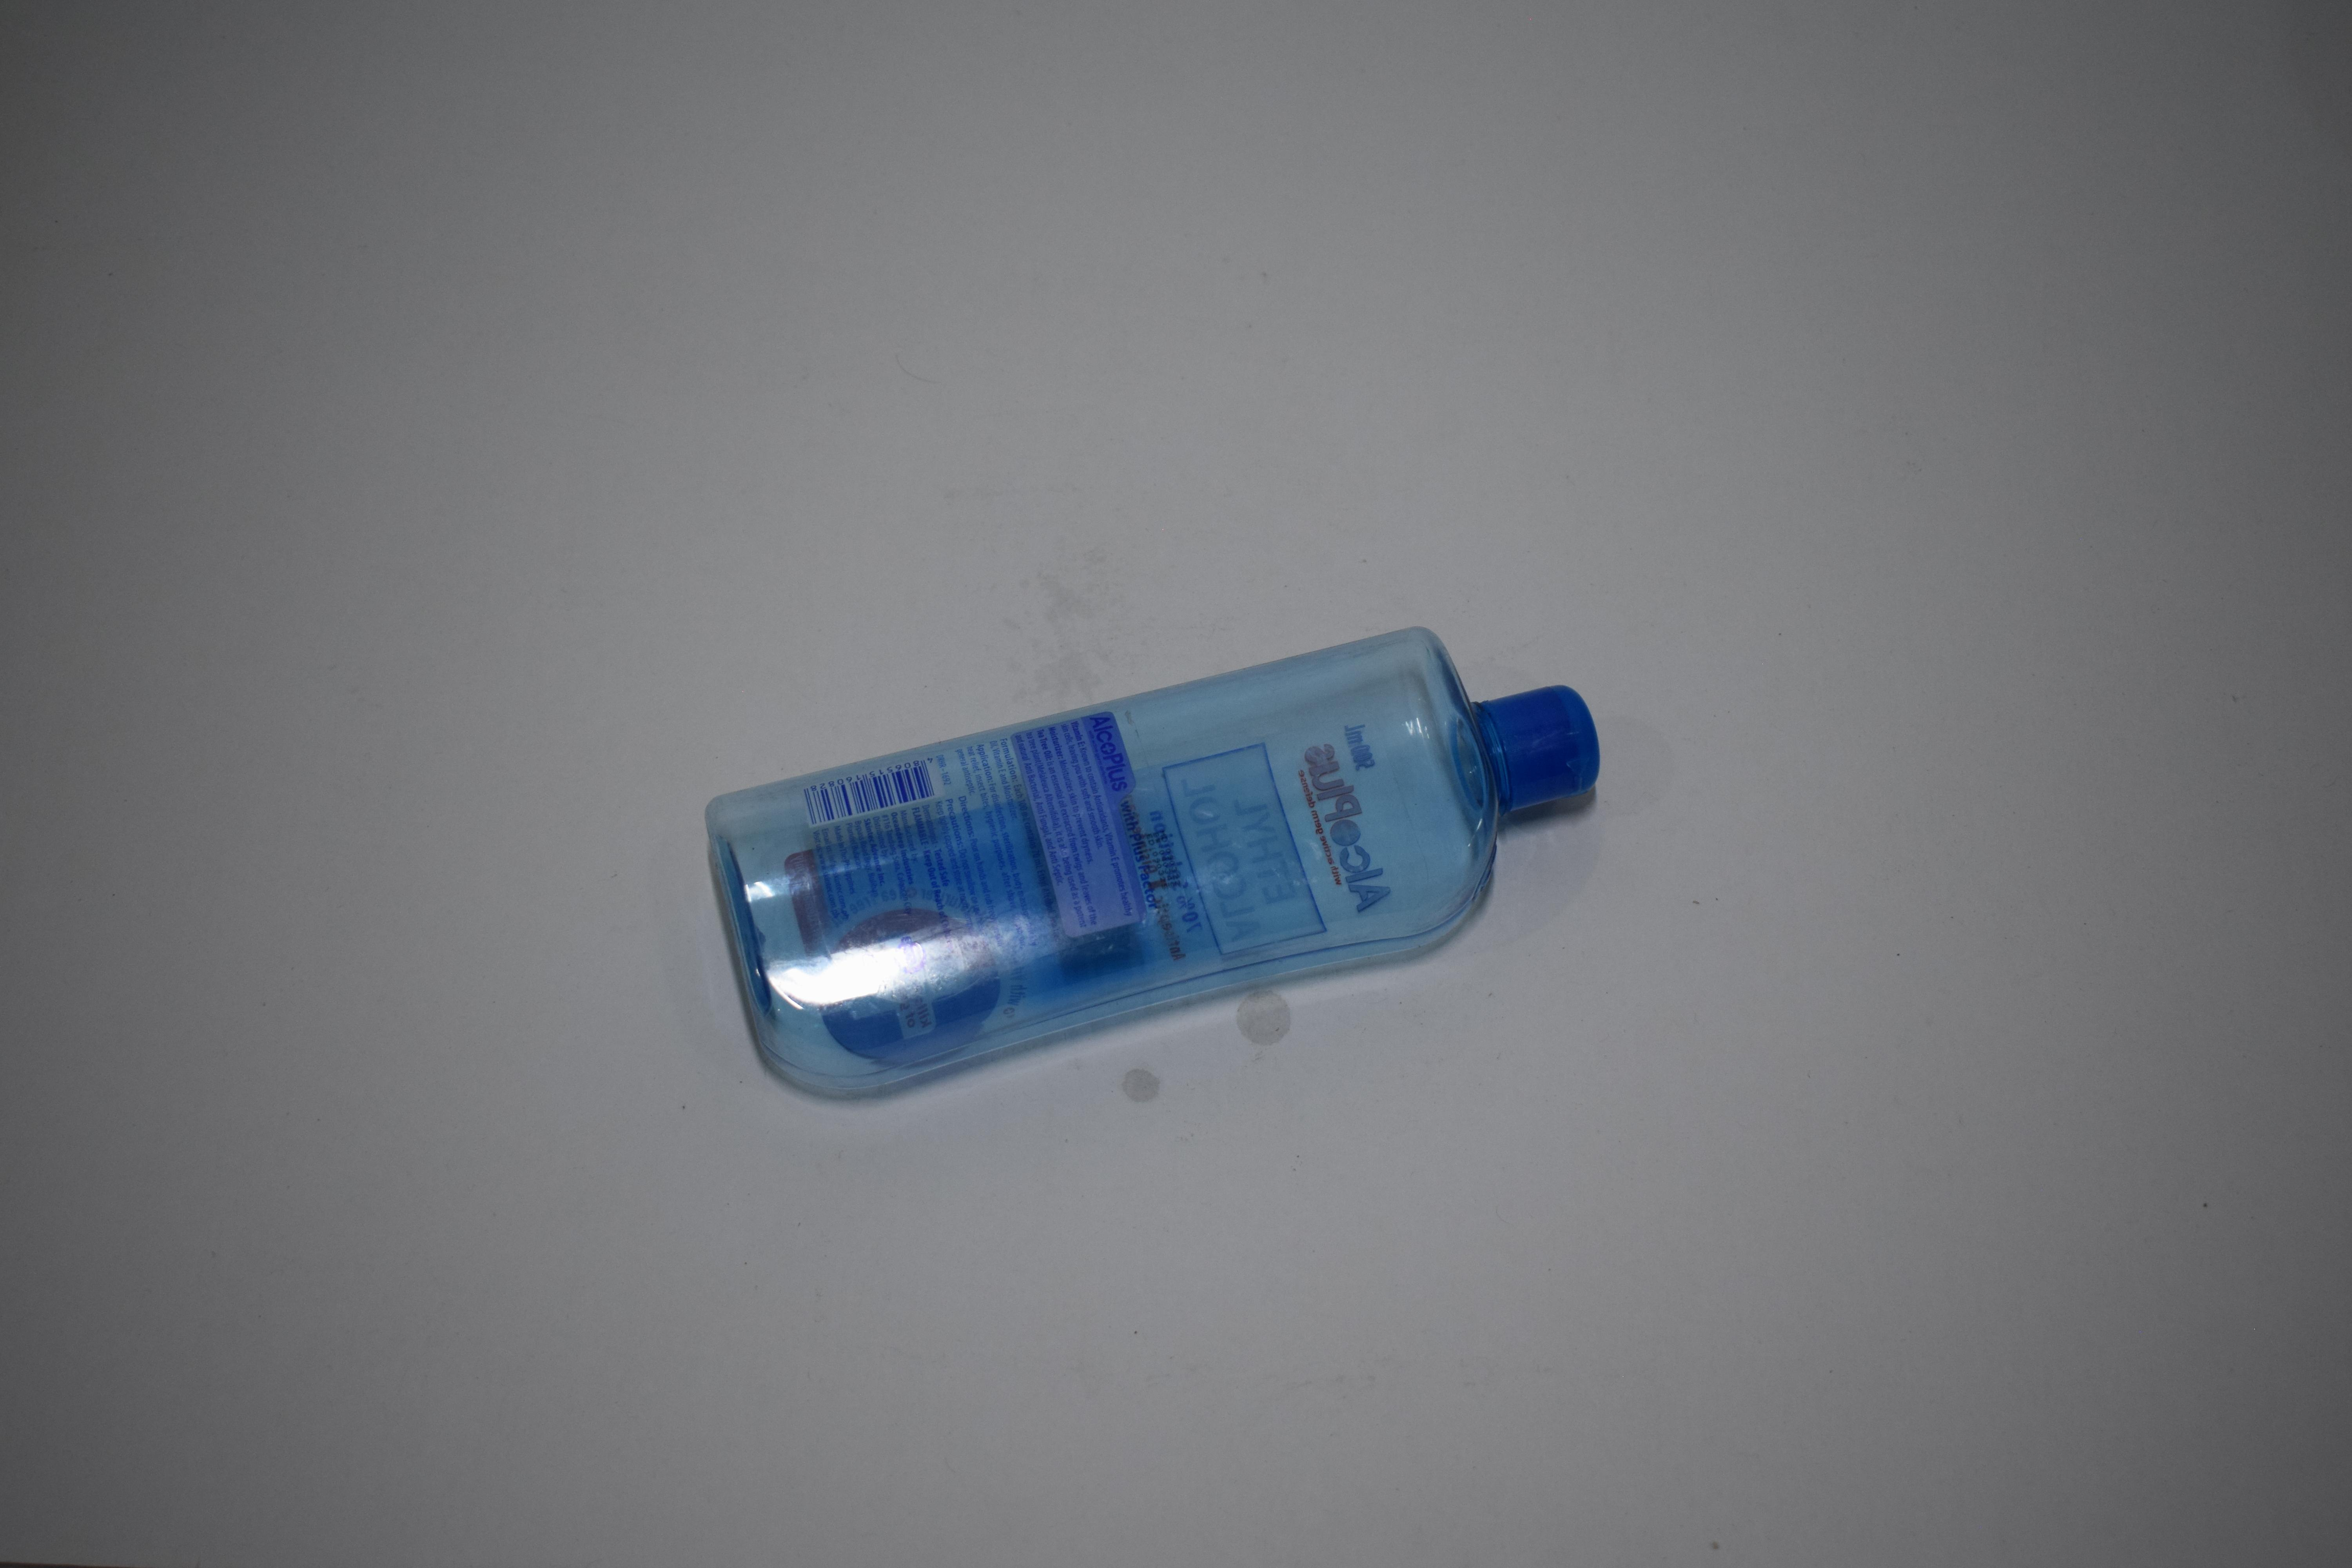bottle: (698, 0, 1612, 247)
